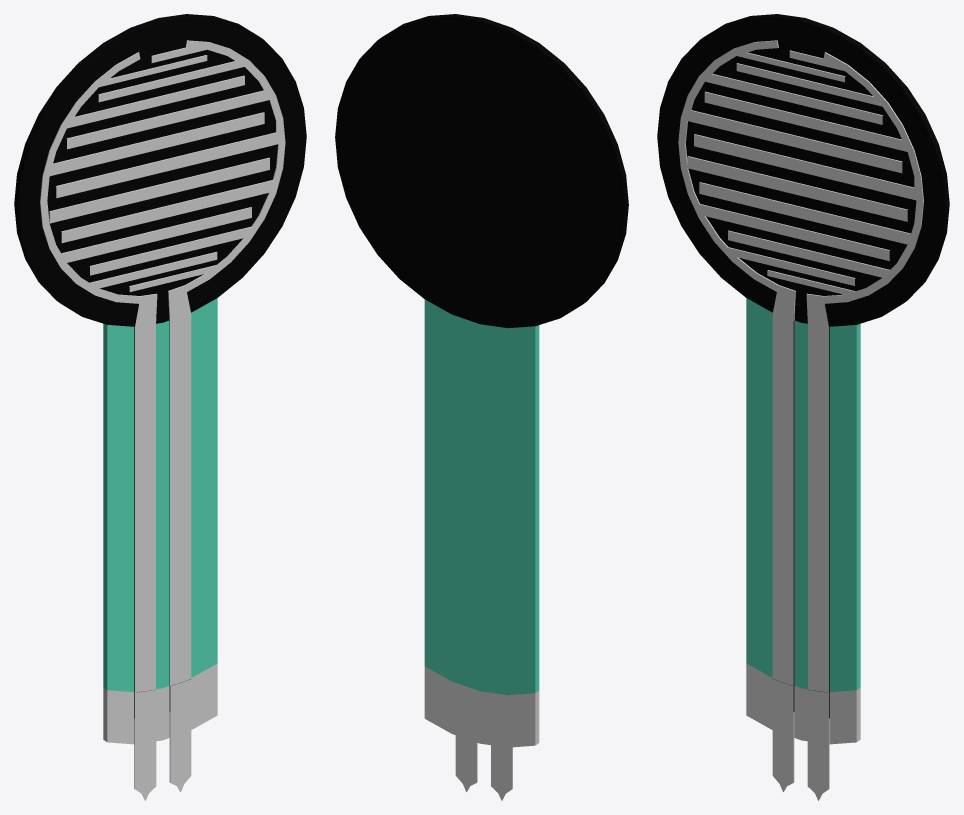
Rendered from ForceSensor.glb.
The picture shows the model from 3 angles, left to right: view 1: azimuth 30°, elevation 25°; view 2: azimuth 150°, elevation 25°; view 3: azimuth 330°, elevation 25°; orthographic projection.
Parts seen in each view (by area): view 1: Force Sensor.003, Force Sensor, Force Sensor.002, Force Sensor.001; view 2: Force Sensor.003, Force Sensor, Force Sensor.002, Force Sensor.001; view 3: Force Sensor.003, Force Sensor, Force Sensor.001, Force Sensor.002.
Part boxes in pixels (box(x1,y1,x2,y2)): Force Sensor.003: box(14, 14, 306, 327); Force Sensor: box(103, 298, 217, 744); Force Sensor.002: box(169, 705, 191, 791); Force Sensor.001: box(134, 716, 156, 800); Force Sensor.003: box(335, 14, 628, 328); Force Sensor: box(424, 299, 539, 747); Force Sensor.002: box(455, 735, 477, 791); Force Sensor.001: box(491, 745, 512, 800); Force Sensor.003: box(657, 14, 949, 327); Force Sensor: box(746, 298, 860, 744); Force Sensor.001: box(772, 705, 794, 791); Force Sensor.002: box(807, 716, 829, 800).
Size of the model in its own units: 0.2913 by 0.7477 by 0.00833.
